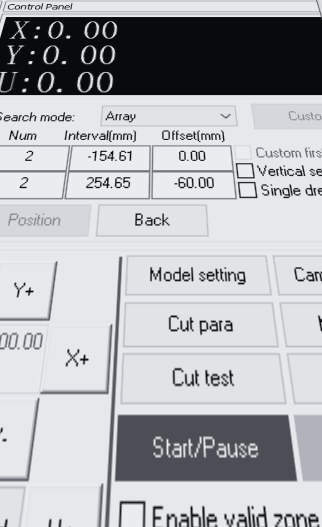start: (118, 409, 293, 482)
timer: (151, 129, 236, 201)
